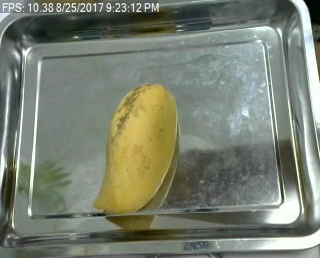Mango: (93, 82, 178, 212)
